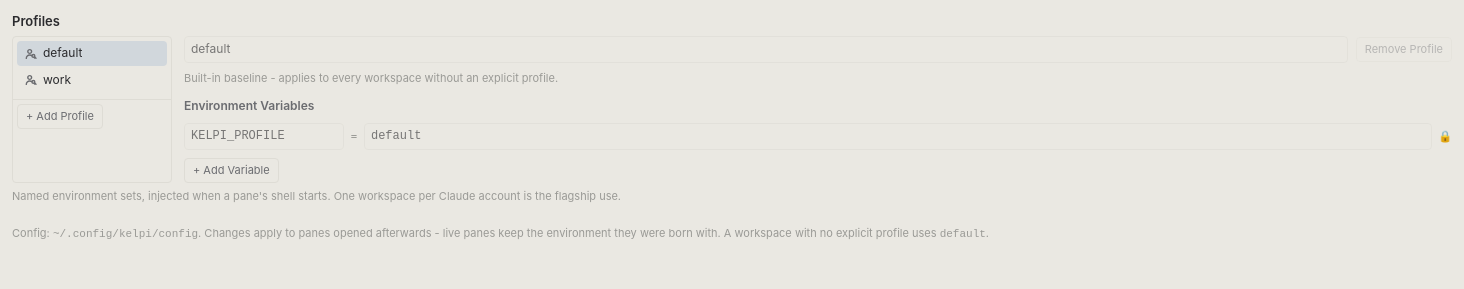
Test: deselection (SET-080) › clears the selection when the rail’s empty space is clicked, and shows the placeholder
The width and height of the screenshot is (1464, 289).
Expected: the element with test id "profile-detail" is shown, top-left (184, 36), bottom-right (1452, 183)
Click the list with test id "profiles-list": x=92, y=110 top-left (12, 36), bottom-right (172, 183)
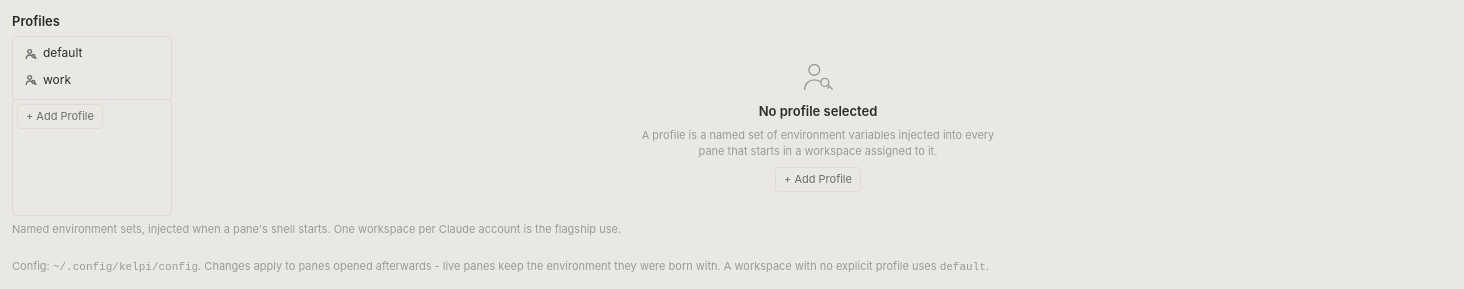
Now the element with test id "profile-detail-placeholder" shows "No profile selected", box top-left (759, 103), bottom-right (877, 119)
Now the element with test id "profile-detail-placeholder" shows "named set of environment variables", box top-left (642, 128), bottom-right (994, 158)
